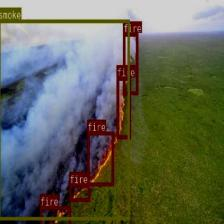fire: (87, 131, 114, 185), (123, 32, 137, 94), (116, 77, 130, 138), (40, 206, 71, 224), (69, 184, 89, 201)
smoke: (0, 18, 129, 220)
